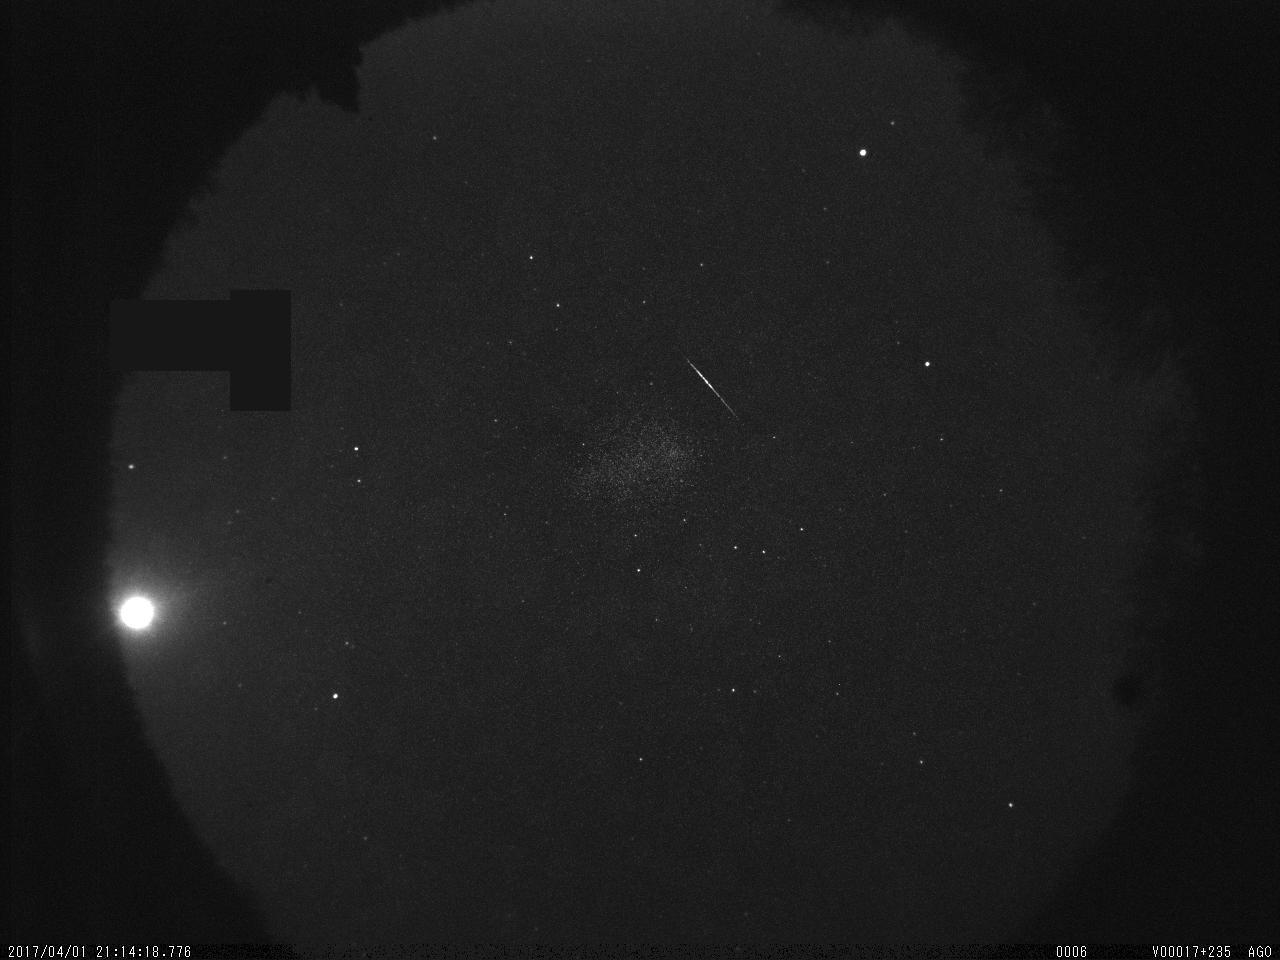meteor: (656, 341, 772, 438)
